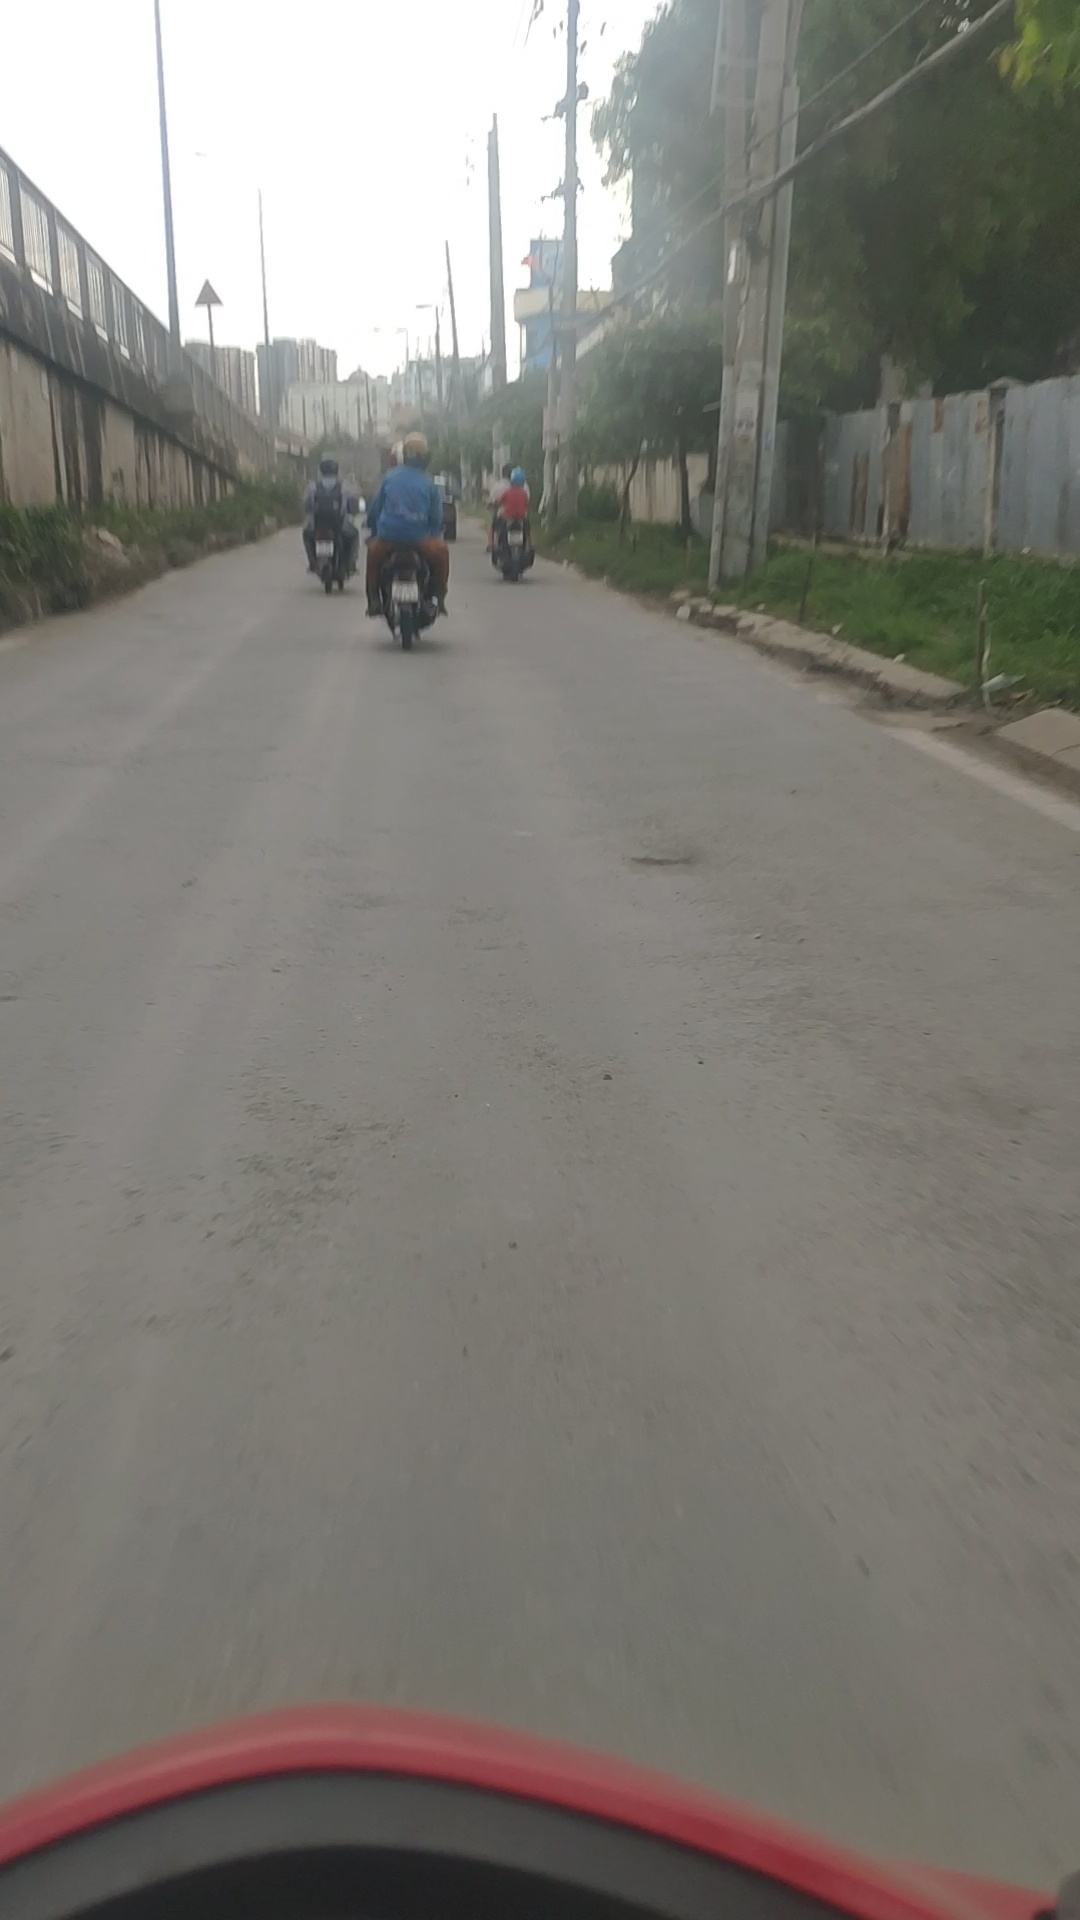hole: (613, 851, 702, 873)
